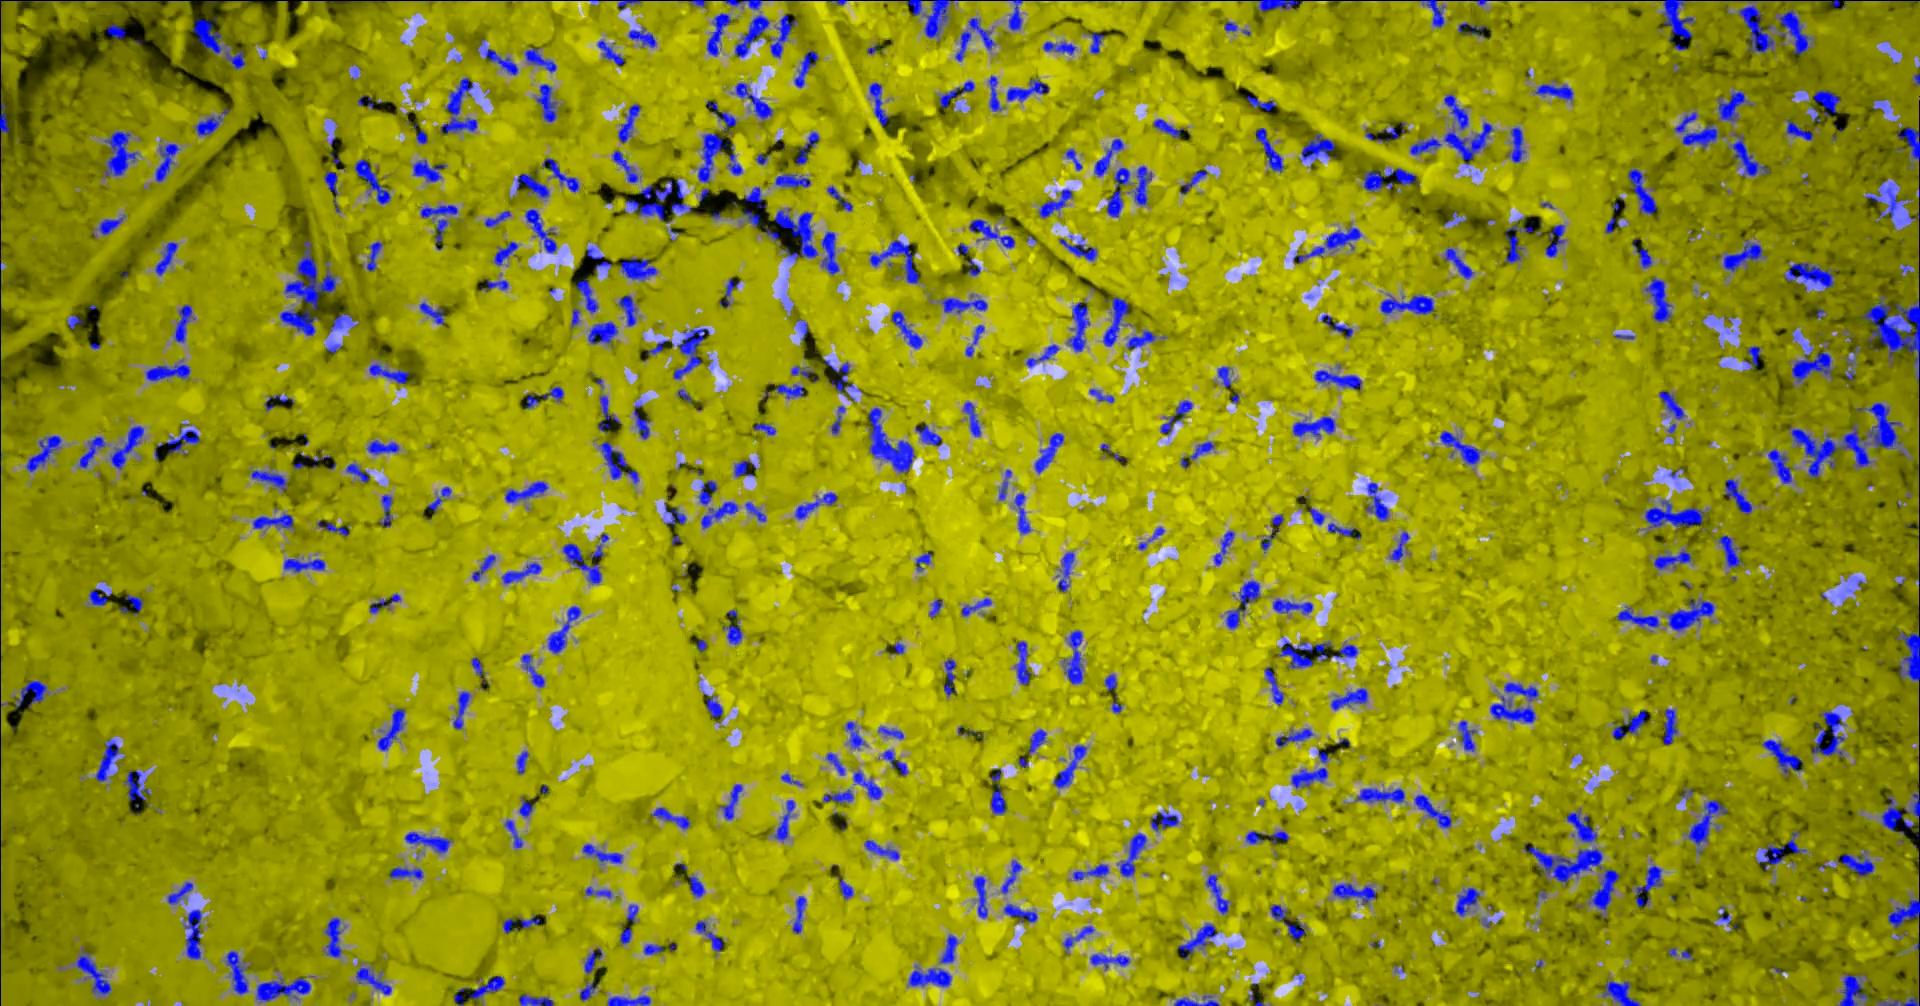ant: (625, 178, 690, 222), (1291, 226, 1361, 263), (773, 208, 817, 260), (697, 132, 742, 182), (1688, 799, 1727, 854), (1855, 401, 1901, 448), (869, 240, 918, 283), (1277, 640, 1357, 667), (1443, 122, 1493, 164), (439, 77, 476, 133), (670, 328, 709, 379), (1879, 788, 1919, 836), (1757, 831, 1806, 870), (955, 17, 996, 61), (1865, 183, 1911, 222), (1730, 133, 1769, 177), (1672, 111, 1717, 149), (354, 158, 390, 203), (1738, 5, 1773, 52), (599, 441, 637, 483), (563, 542, 601, 584), (547, 605, 580, 653), (76, 949, 110, 995), (1644, 500, 1703, 527), (1225, 580, 1258, 627), (734, 14, 770, 57), (104, 131, 137, 177), (154, 427, 199, 460), (1811, 711, 1844, 757), (1667, 598, 1714, 630), (1589, 868, 1619, 916), (1783, 262, 1837, 288), (1778, 9, 1810, 55), (1761, 739, 1802, 775), (110, 426, 143, 469), (1053, 744, 1086, 788), (524, 208, 556, 253), (1895, 621, 1919, 680), (1177, 923, 1217, 959), (255, 977, 310, 1002), (968, 218, 1015, 248), (735, 83, 772, 119), (1439, 431, 1479, 464), (1790, 351, 1832, 382), (822, 358, 853, 400), (1662, 0, 1693, 43), (25, 434, 61, 471), (1413, 794, 1451, 828), (1270, 904, 1304, 942), (1255, 127, 1284, 171), (1627, 168, 1655, 213), (923, 0, 957, 37), (1102, 296, 1128, 345), (1723, 239, 1763, 271), (1363, 168, 1417, 191), (1117, 832, 1145, 876), (1490, 695, 1535, 721), (770, 14, 797, 57), (1065, 301, 1090, 351), (1034, 432, 1063, 473), (1644, 277, 1671, 321), (542, 158, 578, 191), (794, 492, 836, 520), (1106, 166, 1129, 216), (190, 17, 221, 53), (891, 311, 922, 348), (377, 708, 404, 749), (1093, 138, 1123, 177), (1379, 293, 1432, 314), (1566, 807, 1596, 842), (1636, 865, 1661, 907), (404, 831, 450, 854), (706, 13, 730, 56), (95, 738, 119, 781), (700, 500, 737, 528), (1505, 224, 1531, 262), (279, 309, 317, 335), (1063, 630, 1082, 683), (225, 950, 248, 995), (1006, 77, 1048, 102), (1161, 400, 1191, 433), (1718, 91, 1752, 121), (1037, 188, 1072, 217), (356, 967, 391, 995), (1837, 973, 1868, 1005), (1332, 883, 1377, 904), (1611, 710, 1646, 738), (938, 80, 974, 107), (1724, 479, 1751, 514), (1291, 417, 1335, 438), (705, 100, 735, 131), (1205, 874, 1228, 915), (1887, 899, 1919, 929), (1062, 925, 1095, 953), (155, 144, 179, 182), (1603, 981, 1641, 1005), (1180, 441, 1214, 467), (1617, 606, 1658, 627), (1443, 94, 1468, 130), (617, 104, 640, 144), (1314, 370, 1361, 389), (695, 920, 723, 951), (504, 481, 547, 502), (908, 965, 951, 986), (1365, 481, 1388, 520), (1260, 514, 1283, 553), (869, 83, 889, 124), (1444, 248, 1472, 278), (15, 680, 46, 708), (502, 561, 541, 583), (650, 807, 690, 828), (611, 150, 637, 182), (794, 50, 817, 86), (1059, 238, 1096, 260), (597, 395, 620, 432), (1837, 854, 1874, 876), (484, 48, 517, 74), (1302, 133, 1335, 159), (368, 363, 409, 384), (535, 83, 556, 121), (524, 386, 563, 408), (1330, 688, 1368, 710), (184, 909, 201, 959), (853, 770, 881, 799), (251, 469, 287, 492), (469, 976, 504, 998), (524, 47, 556, 72), (79, 436, 104, 467), (516, 173, 549, 197), (620, 258, 657, 279), (720, 782, 742, 819), (1896, 126, 1919, 160), (1768, 448, 1790, 483), (521, 653, 543, 687), (1812, 89, 1840, 117), (1658, 390, 1685, 419), (775, 799, 794, 840), (582, 843, 622, 862), (822, 231, 839, 274), (1213, 530, 1234, 565), (1718, 535, 1742, 567), (795, 131, 818, 164), (1025, 344, 1058, 367), (1365, 122, 1404, 141), (411, 159, 446, 180), (155, 241, 177, 276), (575, 278, 597, 312), (124, 770, 149, 800), (1321, 314, 1352, 337), (1653, 550, 1691, 569), (1263, 667, 1283, 705), (1291, 767, 1327, 788), (999, 860, 1021, 893), (1455, 887, 1479, 916), (1133, 165, 1150, 205), (1057, 551, 1074, 591), (324, 917, 342, 956), (941, 297, 987, 312), (145, 365, 190, 380), (990, 768, 1006, 814), (1355, 788, 1404, 801), (1420, 0, 1445, 27), (597, 39, 623, 65), (1534, 83, 1572, 100), (174, 304, 192, 342), (723, 608, 742, 644), (1275, 728, 1313, 746), (863, 840, 899, 859), (1180, 170, 1208, 194), (328, 312, 358, 334), (587, 321, 617, 343), (452, 691, 470, 728), (1072, 862, 1109, 880), (1003, 903, 1037, 922), (881, 749, 907, 775), (825, 185, 852, 210), (425, 486, 450, 513), (471, 554, 495, 580), (1015, 641, 1030, 683), (717, 278, 739, 307), (1545, 224, 1564, 257), (1630, 238, 1651, 268), (1015, 493, 1030, 533), (251, 513, 292, 528), (370, 593, 400, 614), (963, 401, 980, 436), (1503, 682, 1538, 700), (965, 324, 984, 356), (973, 875, 987, 918), (1272, 598, 1312, 614), (361, 241, 381, 271), (1389, 531, 1410, 560), (1509, 127, 1525, 163), (493, 241, 517, 265), (1153, 118, 1183, 137), (419, 301, 444, 324), (263, 392, 293, 412), (1457, 720, 1476, 751), (585, 246, 612, 268), (283, 558, 324, 572), (1150, 810, 1178, 831), (632, 404, 649, 438), (618, 295, 636, 326), (1662, 708, 1677, 744), (1126, 330, 1156, 349), (961, 597, 990, 616), (938, 934, 957, 963), (168, 882, 192, 904), (1090, 954, 1129, 968), (1785, 119, 1812, 140), (98, 213, 124, 234), (844, 721, 863, 749), (1410, 137, 1441, 154), (916, 424, 941, 445), (420, 205, 457, 218), (629, 28, 655, 47), (194, 116, 221, 135), (775, 173, 810, 187), (504, 819, 522, 847), (1258, 0, 1302, 11), (644, 339, 668, 359), (792, 895, 805, 934), (1029, 728, 1046, 754), (317, 520, 348, 535), (823, 788, 853, 803), (1173, 995, 1219, 1005), (1043, 41, 1076, 55), (988, 75, 1001, 111), (584, 948, 602, 973), (606, 995, 650, 1005), (1246, 95, 1275, 111), (366, 439, 397, 453), (484, 210, 510, 226), (744, 185, 764, 207), (703, 694, 723, 716), (825, 752, 844, 775), (345, 464, 370, 481), (698, 480, 716, 504), (1007, 0, 1021, 30), (1457, 22, 1484, 37), (772, 384, 803, 398), (1327, 522, 1357, 536), (0, 91, 9, 137), (943, 659, 955, 695), (378, 494, 391, 526), (471, 657, 484, 688), (88, 588, 112, 605), (836, 875, 852, 899), (830, 405, 844, 433), (434, 218, 447, 249), (998, 469, 1011, 499), (745, 500, 764, 521), (389, 866, 422, 878), (1743, 345, 1759, 370), (225, 50, 244, 69), (665, 506, 684, 525), (1878, 996, 1919, 1005), (1065, 149, 1082, 170), (733, 460, 754, 476), (687, 875, 703, 897), (323, 170, 337, 196), (1090, 30, 1105, 53), (518, 995, 552, 1005), (124, 594, 142, 614), (1088, 387, 1112, 401), (724, 0, 761, 9), (877, 727, 903, 739), (742, 208, 759, 226), (105, 23, 124, 39), (1308, 506, 1324, 525), (579, 981, 596, 1000), (791, 365, 813, 379), (1217, 366, 1230, 387), (916, 553, 932, 570), (516, 751, 528, 774), (413, 123, 427, 144), (519, 796, 533, 817), (753, 422, 775, 434), (481, 279, 508, 290), (453, 987, 469, 1005), (1244, 829, 1263, 843), (780, 774, 803, 785), (795, 319, 808, 339), (585, 887, 611, 897), (518, 915, 538, 927), (66, 314, 83, 329), (928, 598, 941, 617), (1269, 831, 1288, 843), (905, 0, 921, 15), (357, 95, 373, 109), (1605, 216, 1619, 232), (968, 258, 980, 276), (617, 0, 639, 10), (643, 942, 662, 954), (502, 918, 517, 932), (1103, 673, 1116, 690), (1818, 0, 1845, 8), (626, 904, 637, 922), (1111, 694, 1121, 713), (618, 927, 631, 942), (764, 227, 778, 240), (571, 307, 579, 326), (1224, 22, 1237, 30), (324, 0, 385, 1)
